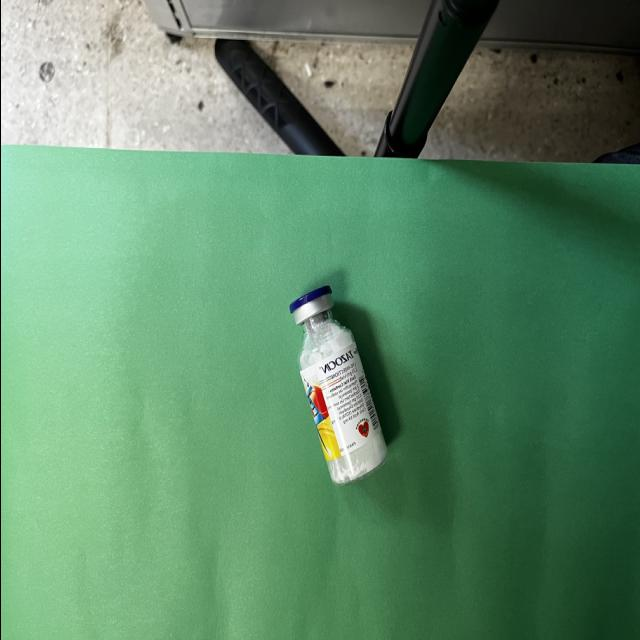Vials: (288, 285, 387, 485)
